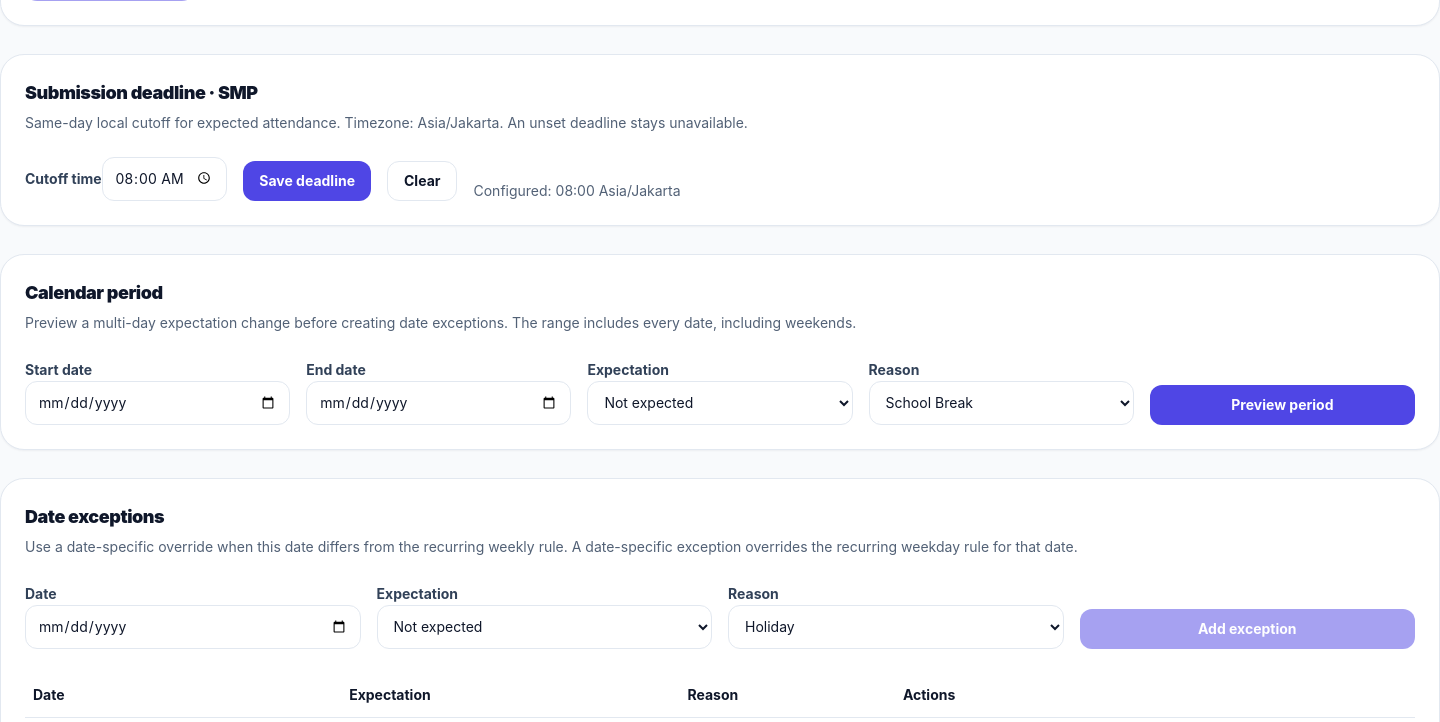
Test case: AttendanceCalendar › previews a range and requires explicit confirmation before applying it
The image size is (1440, 722).
(page scrolled)
In the date field labelled "Start date": (158, 402) [25,380,290,424], type "2026-08-07"
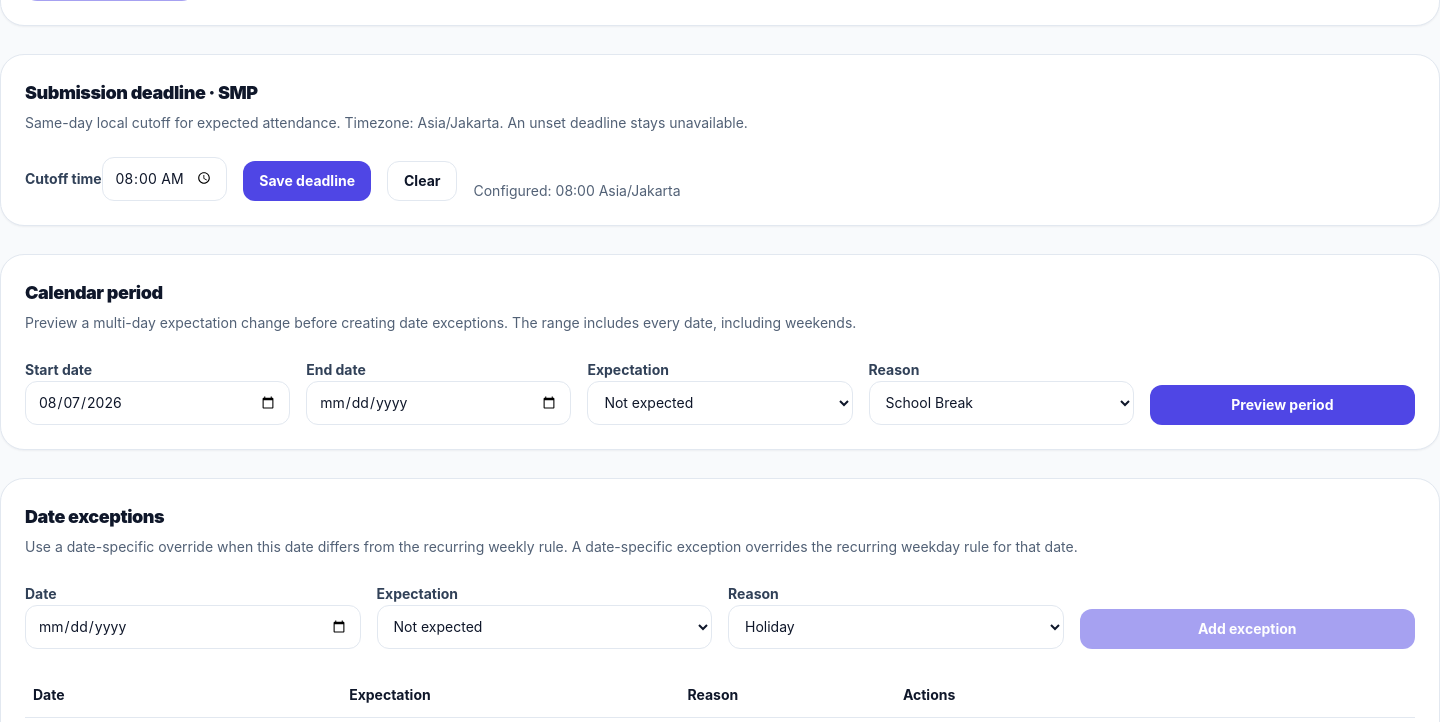
In the date field labelled "End date": (439, 402) [306,380,571,424], type "2026-08-09"
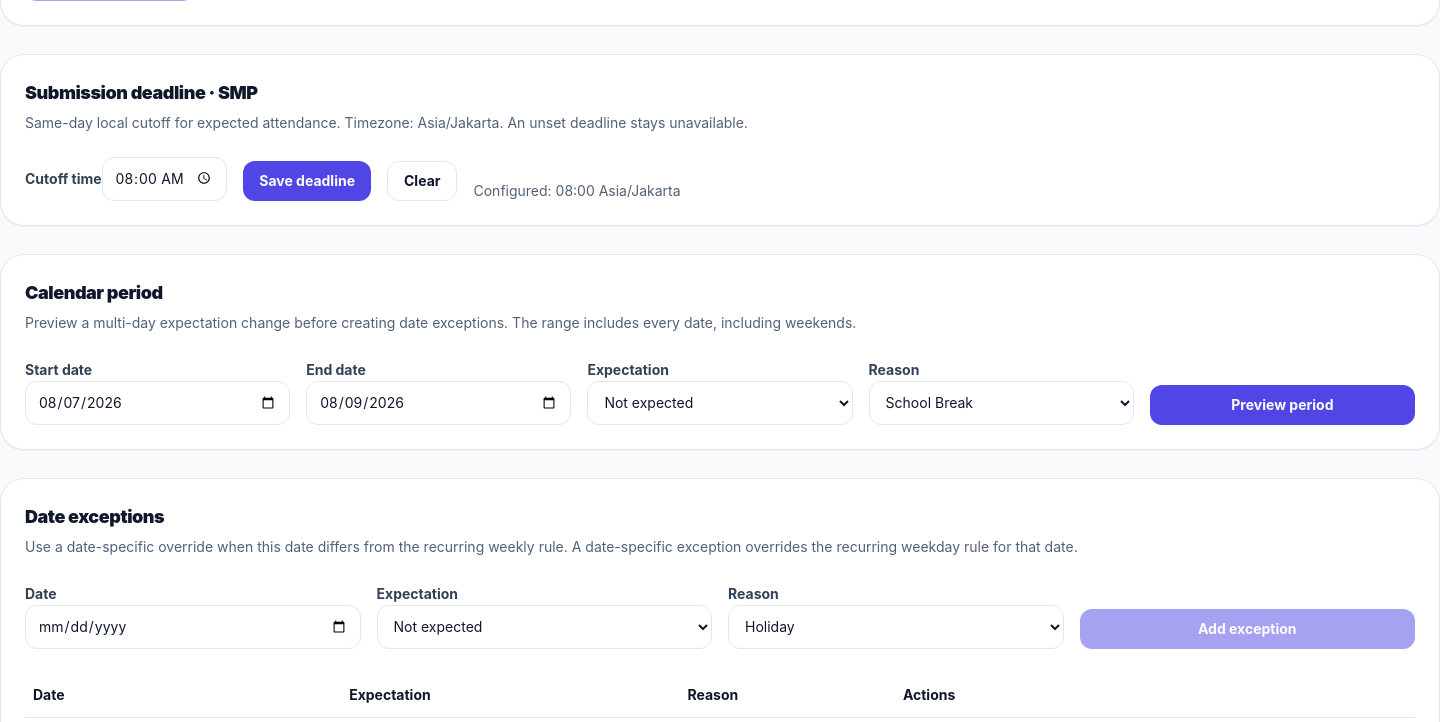
Submit the form "Start date End date Expectation Reason Preview period", box [25,356,1415,424]
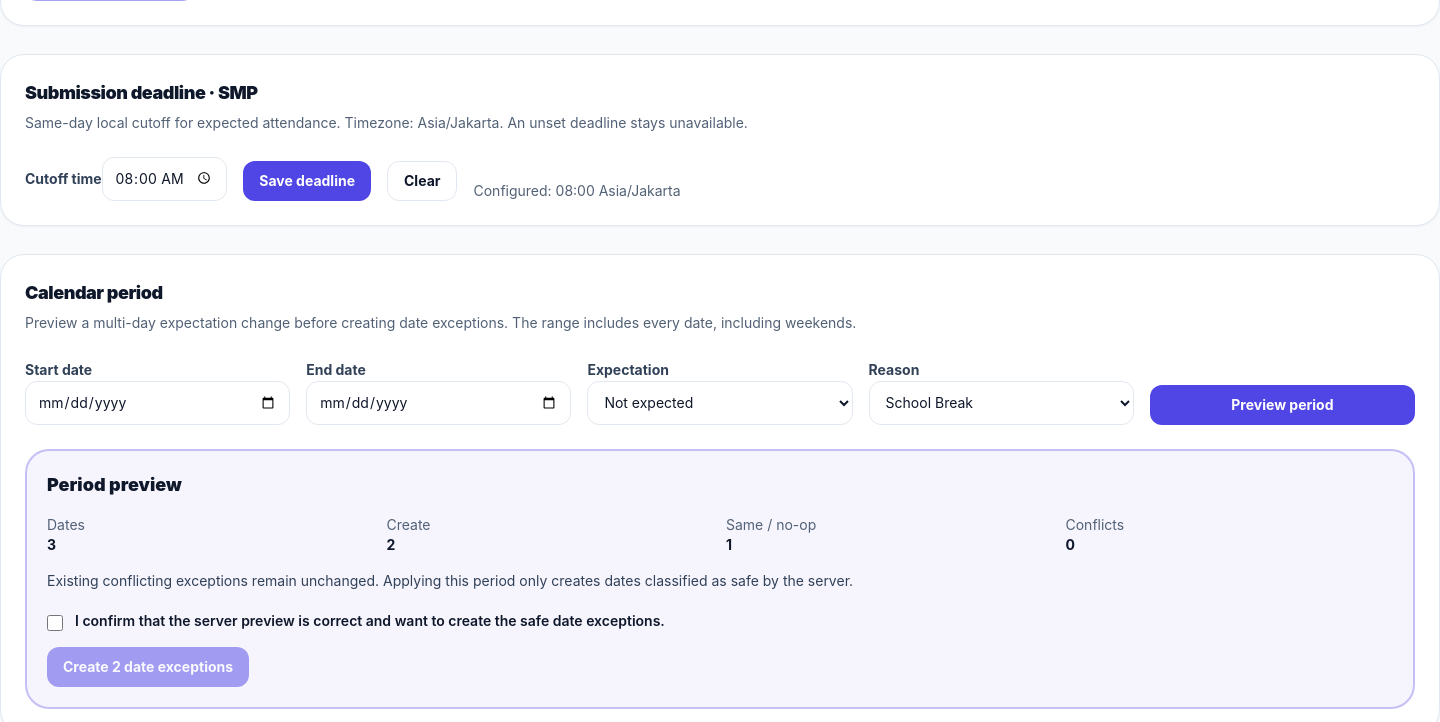
expect the text "period Preview" is shown: met, box [25,282,856,330]
expect the button "Create 2 date exceptions" is disabled: met, box [47,646,249,686]
Click the checkbox: (55, 622) [47,614,63,630]
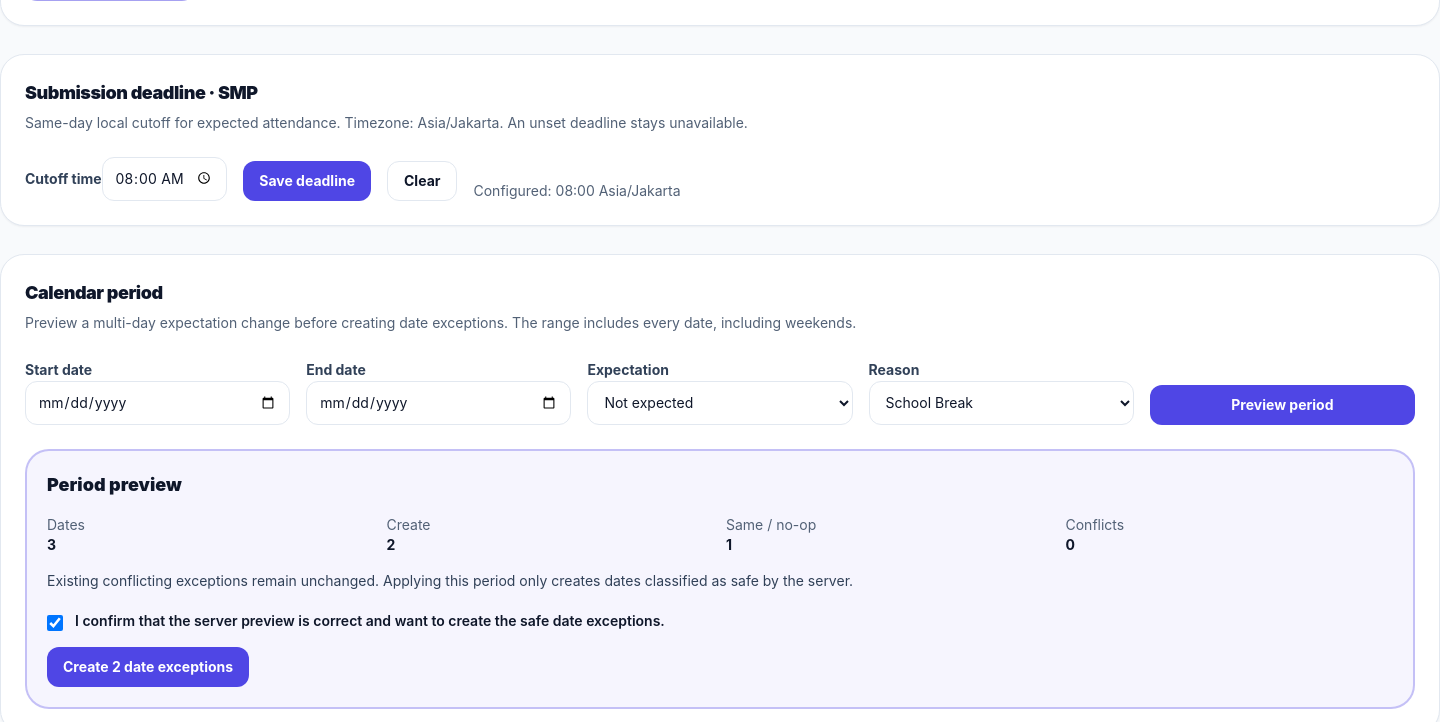
expect the button "Create 2 date exceptions" is enabled: met
Click the button "Create 2 date exceptions": (148, 666) [47,646,249,686]
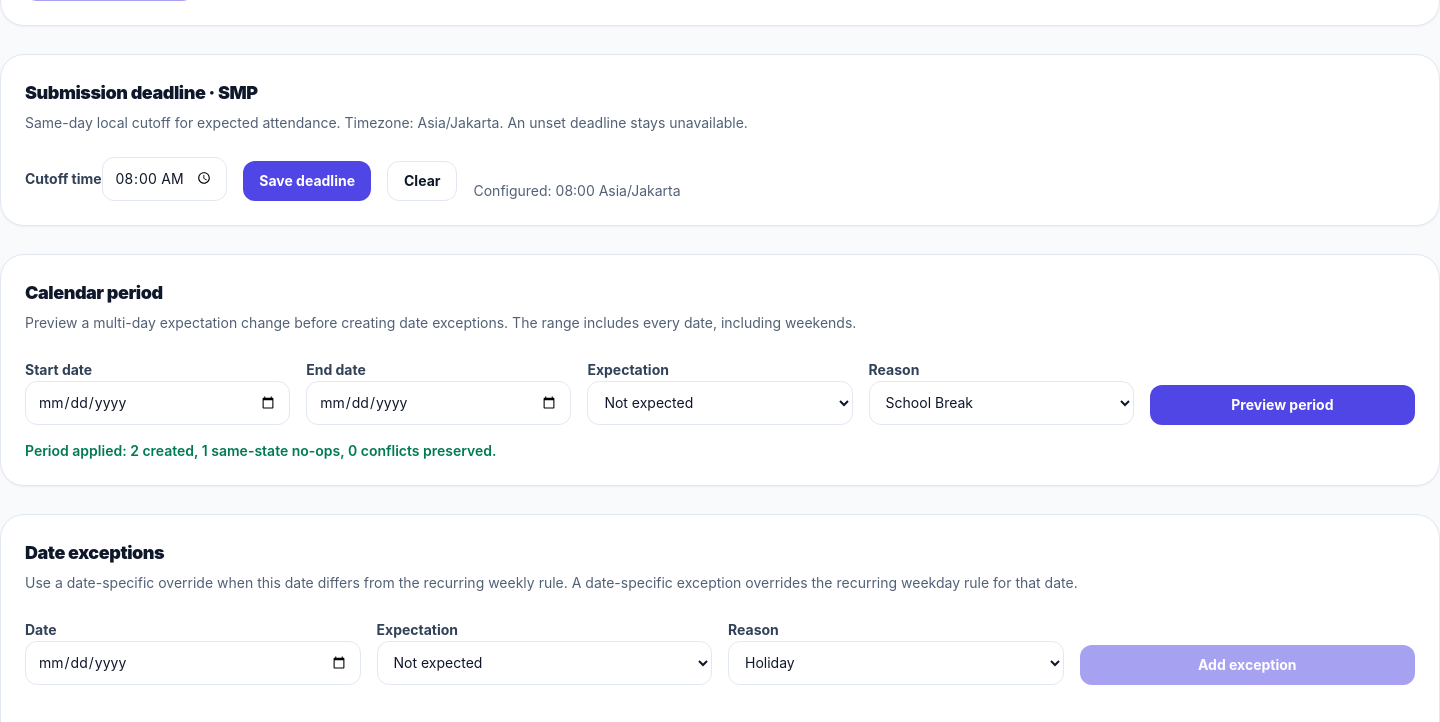
expect the text "Period applied: 2 created" is shown: met, box [25,442,496,458]
